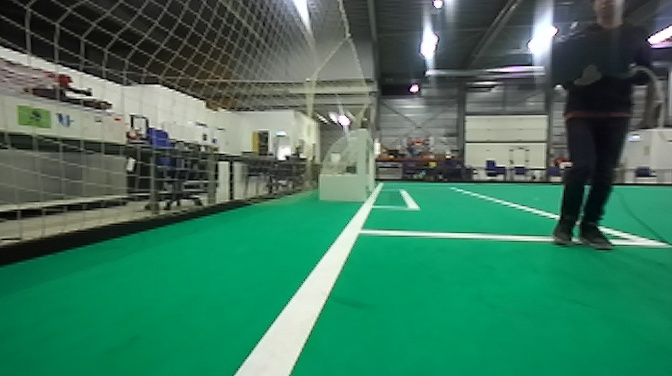goalpost: (349, 127, 365, 209)
human: (545, 2, 654, 252)
